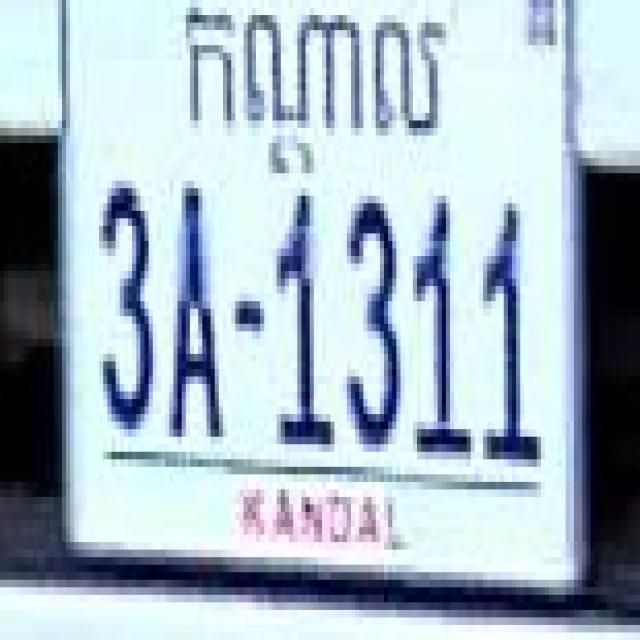Kandal: (181, 0, 446, 174)
